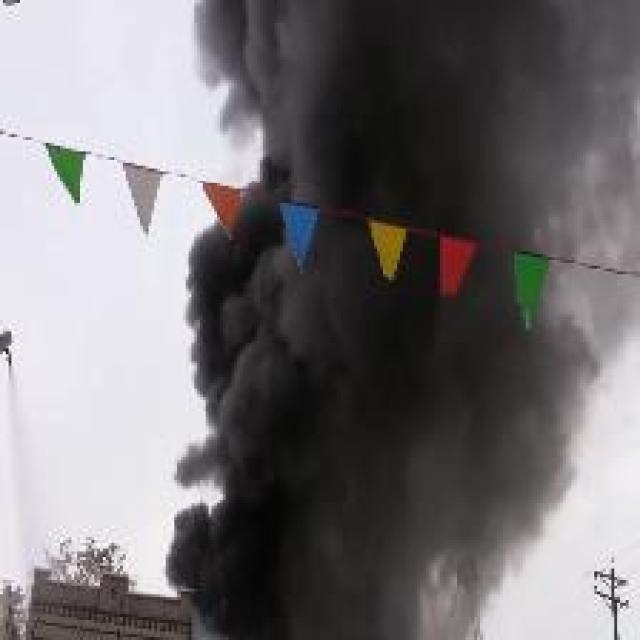smoke: (173, 1, 606, 634)
